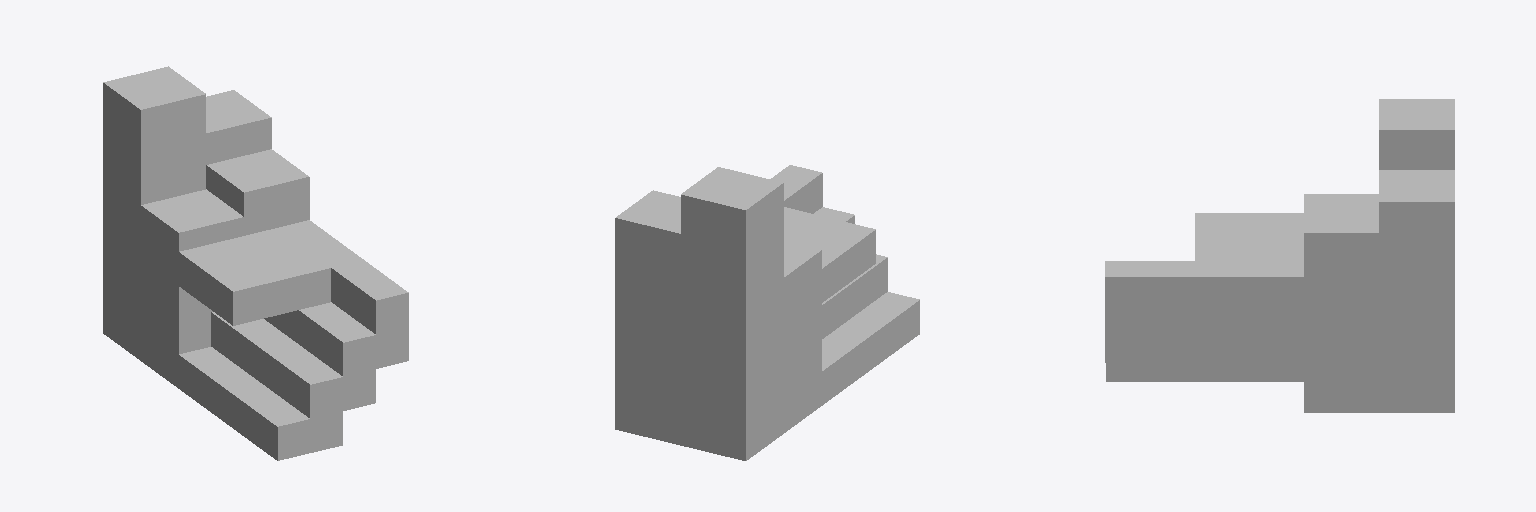
File: static-test-1.obj
The picture shows the model from 3 angles: view 1: azimuth 30°, elevation 25°; view 2: azimuth 150°, elevation 25°; view 3: azimuth 270°, elevation 25°; orthographic projection.
Visible parts, largest first — view 1: Cube; view 2: Cube; view 3: Cube.
Part boxes in pixels (left/top/right/bottom): Cube: left=103, top=66, right=408, bottom=460; Cube: left=615, top=165, right=919, bottom=460; Cube: left=1105, top=99, right=1454, bottom=412.
Size of the model in its own units: 2 by 3.67 by 4.63.